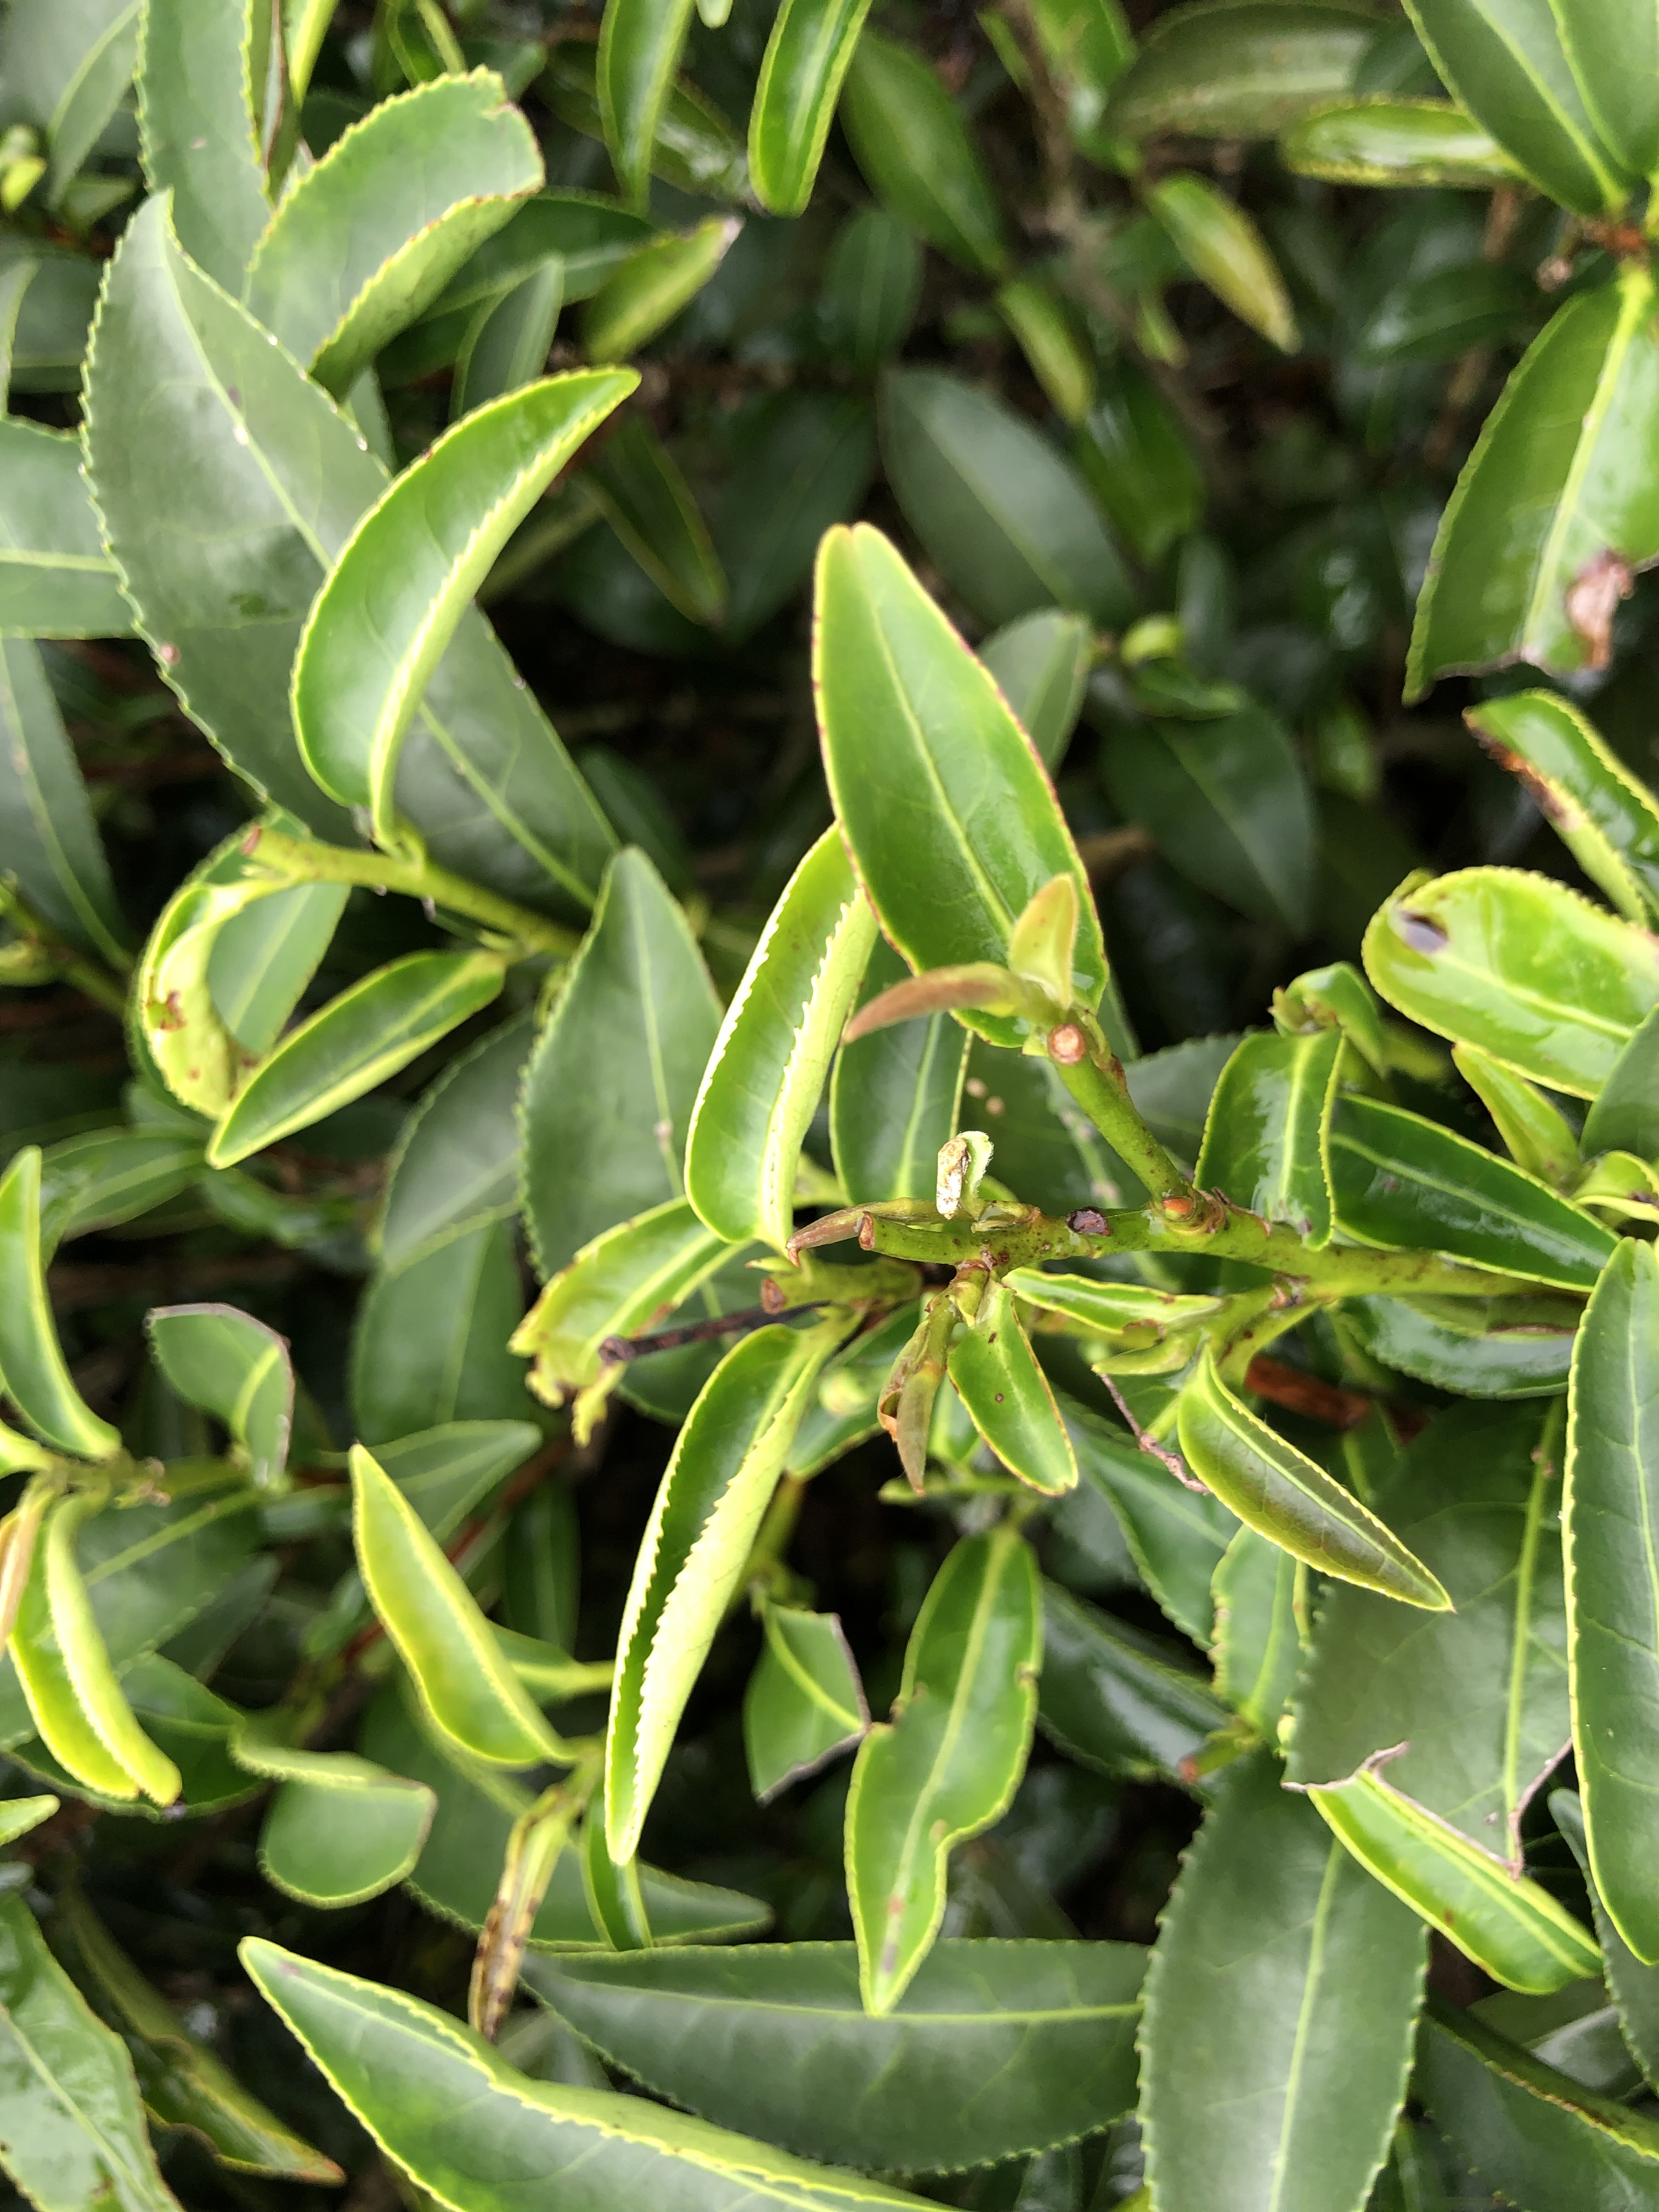mosquito_late: (138, 813, 301, 1111)
